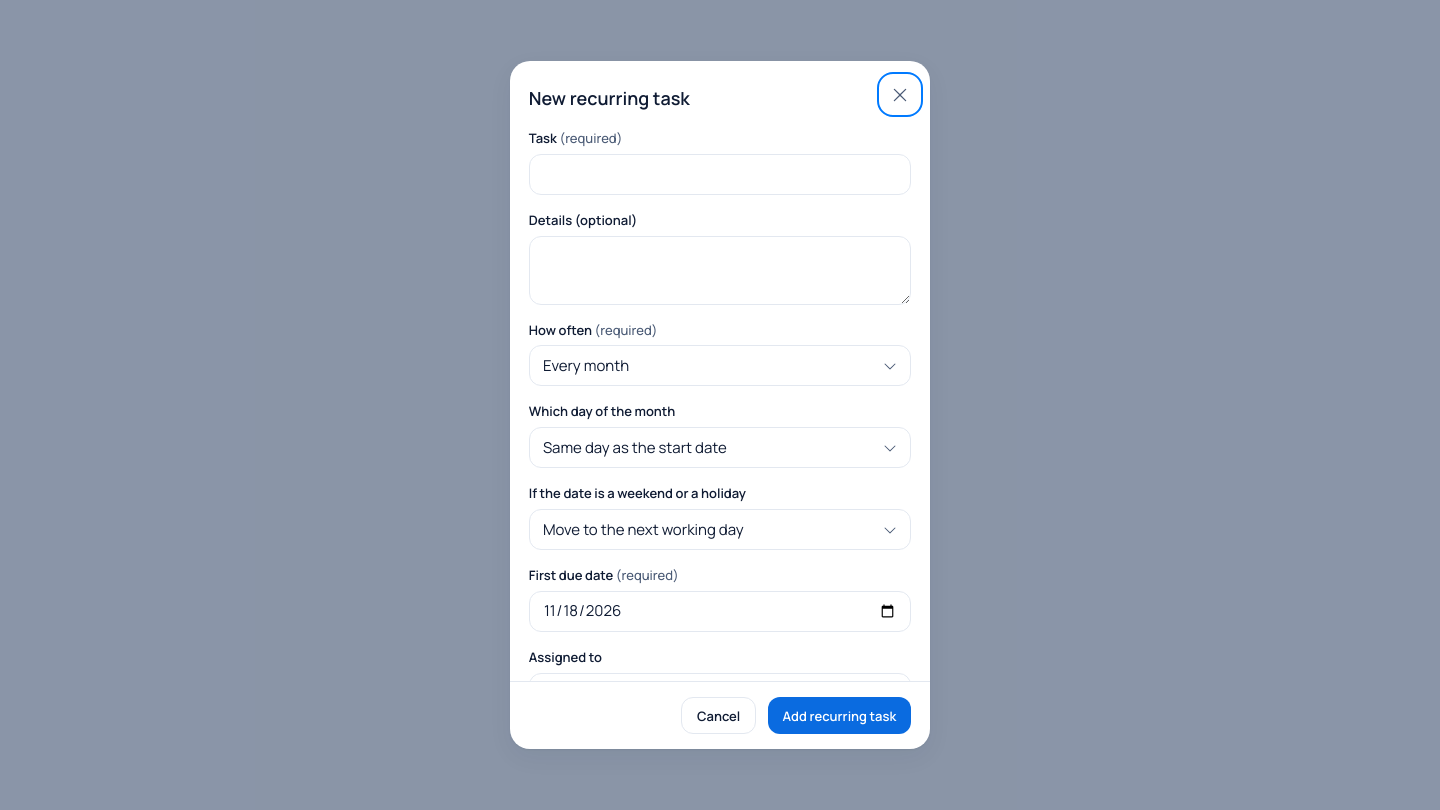
RecurringSheet: rule types › shows the field error the server sends for a rule field
The image size is (1440, 810).
Step 1. Type "X" into the field labelled "Task (required)" → [720, 175], box left=529, top=154, right=911, bottom=195
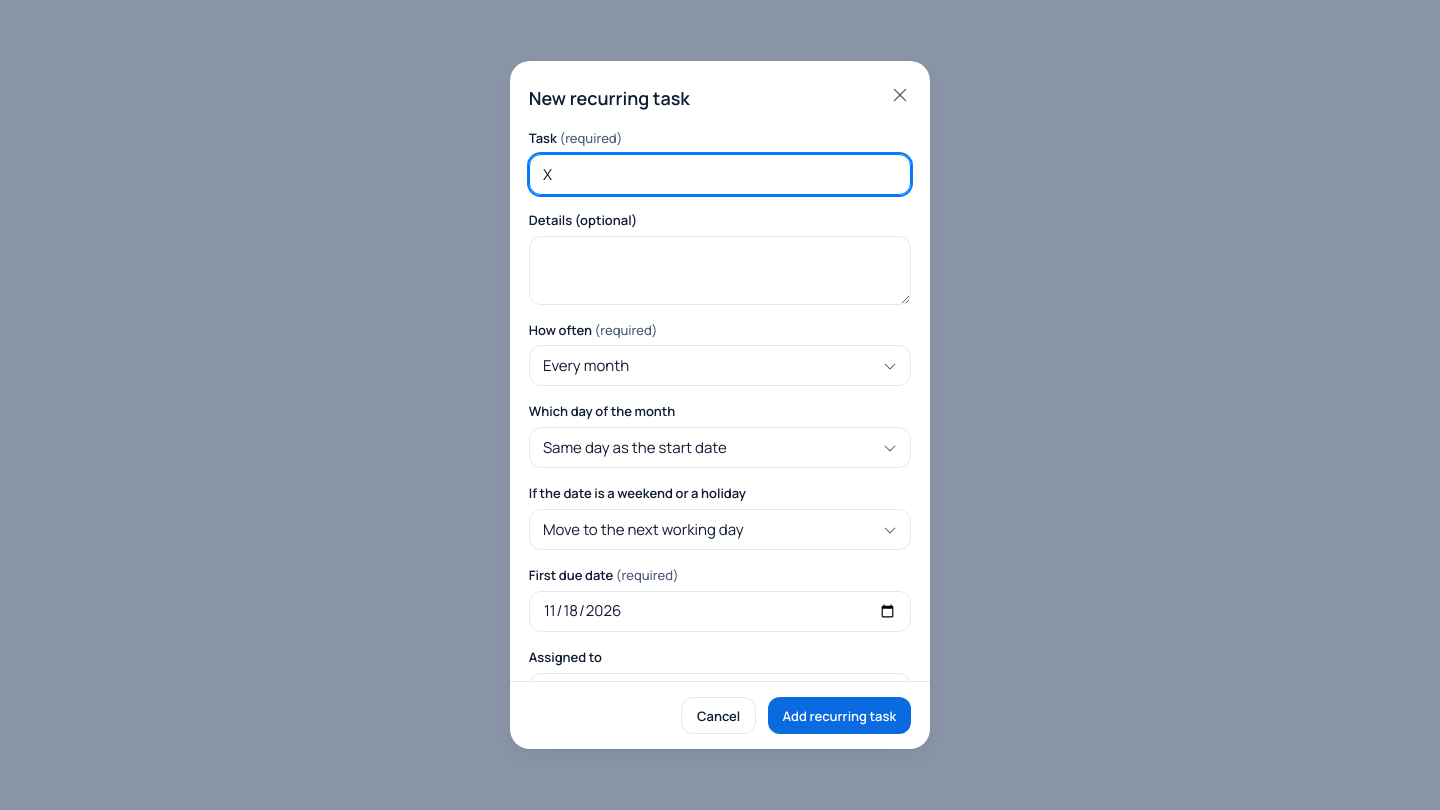
Step 2. Click the button "Add recurring task" → [839, 716], box left=768, top=697, right=911, bottom=734
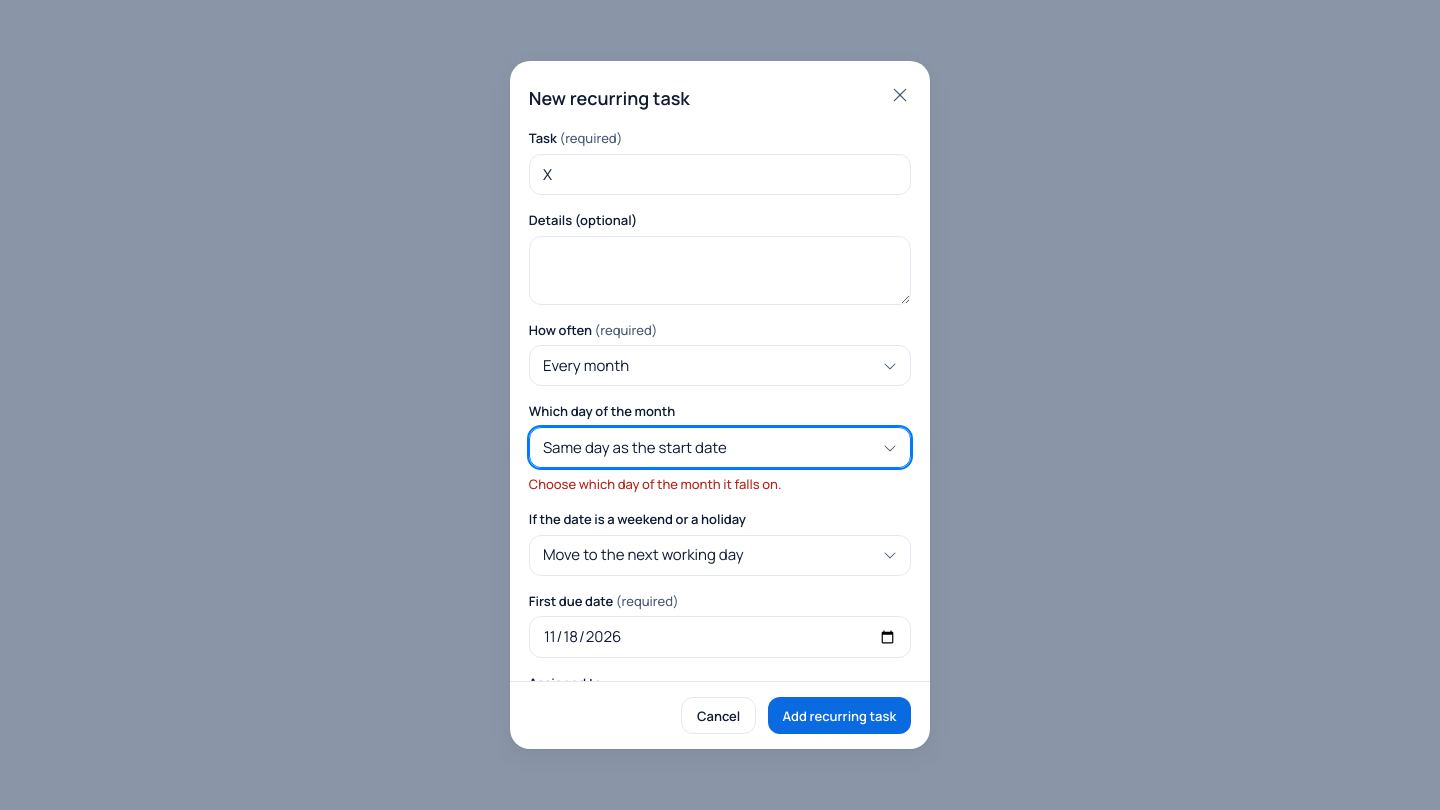
Result: the text "Choose which day of the month it falls on." is shown at left=529, top=475, right=782, bottom=493
